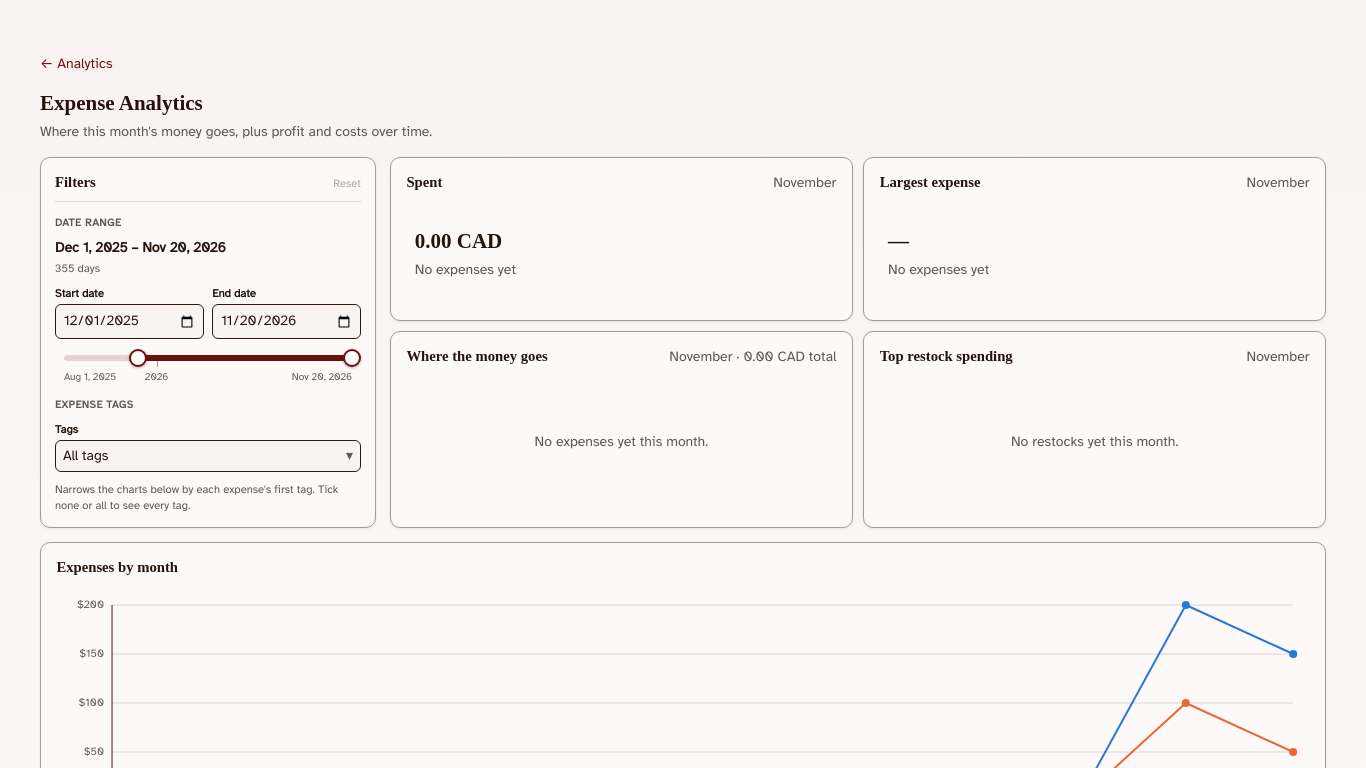
Test case: ExpenseAnalyticsPage charts › tag filter › narrows the charts to the ticked first tags, and Reset unticks them
Click the button named "Tags All tags" at (86, 456), box [55,440,361,472]
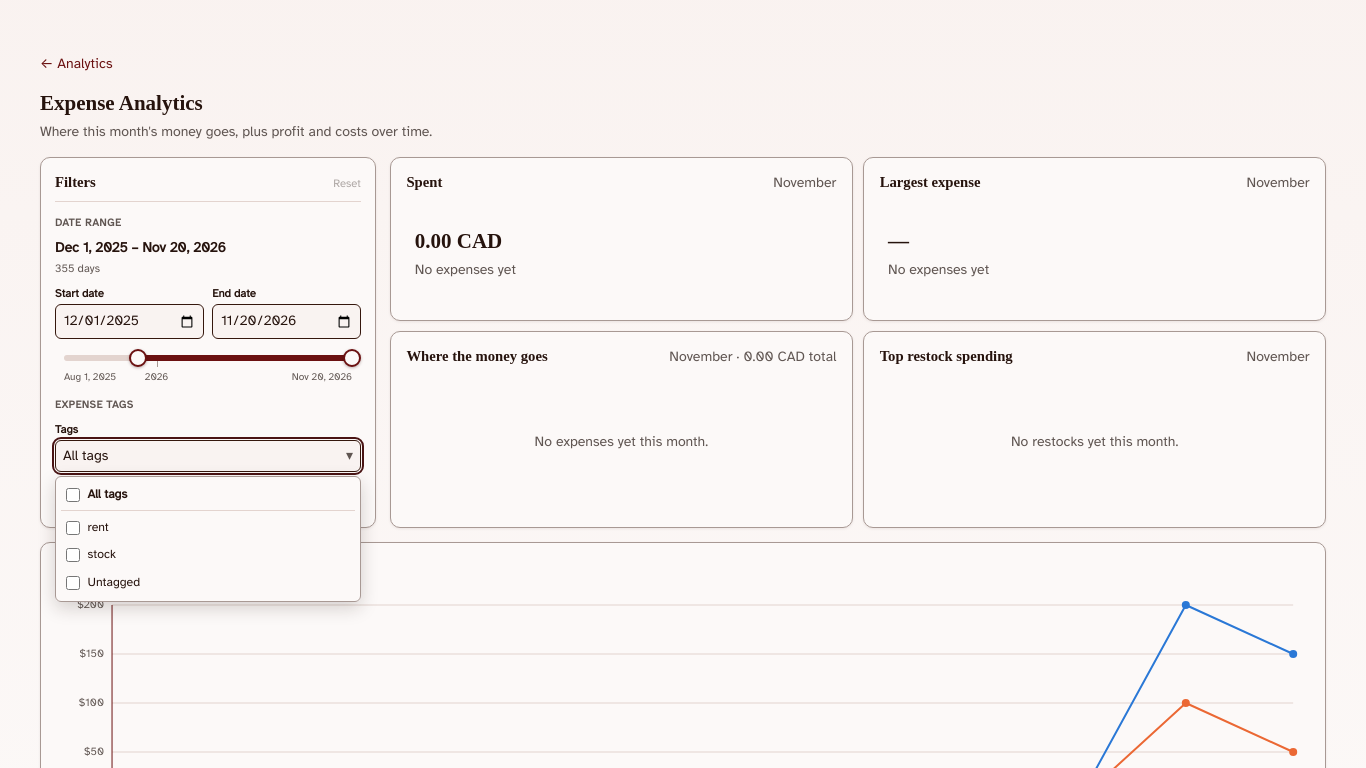
Click the checkbox labelled "stock" at (74, 555), box [66,548,80,562]
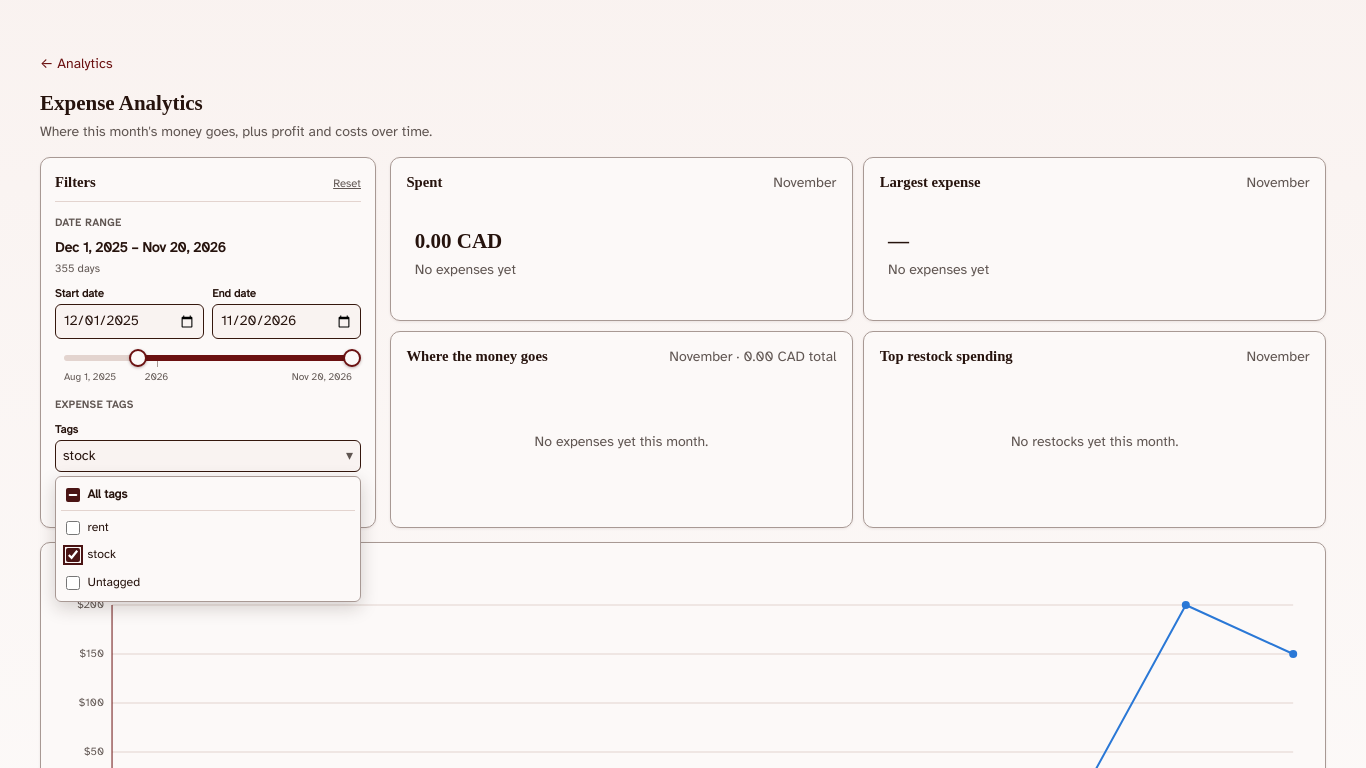
Click the checkbox labelled "rent" at (74, 528), box [66,520,80,534]
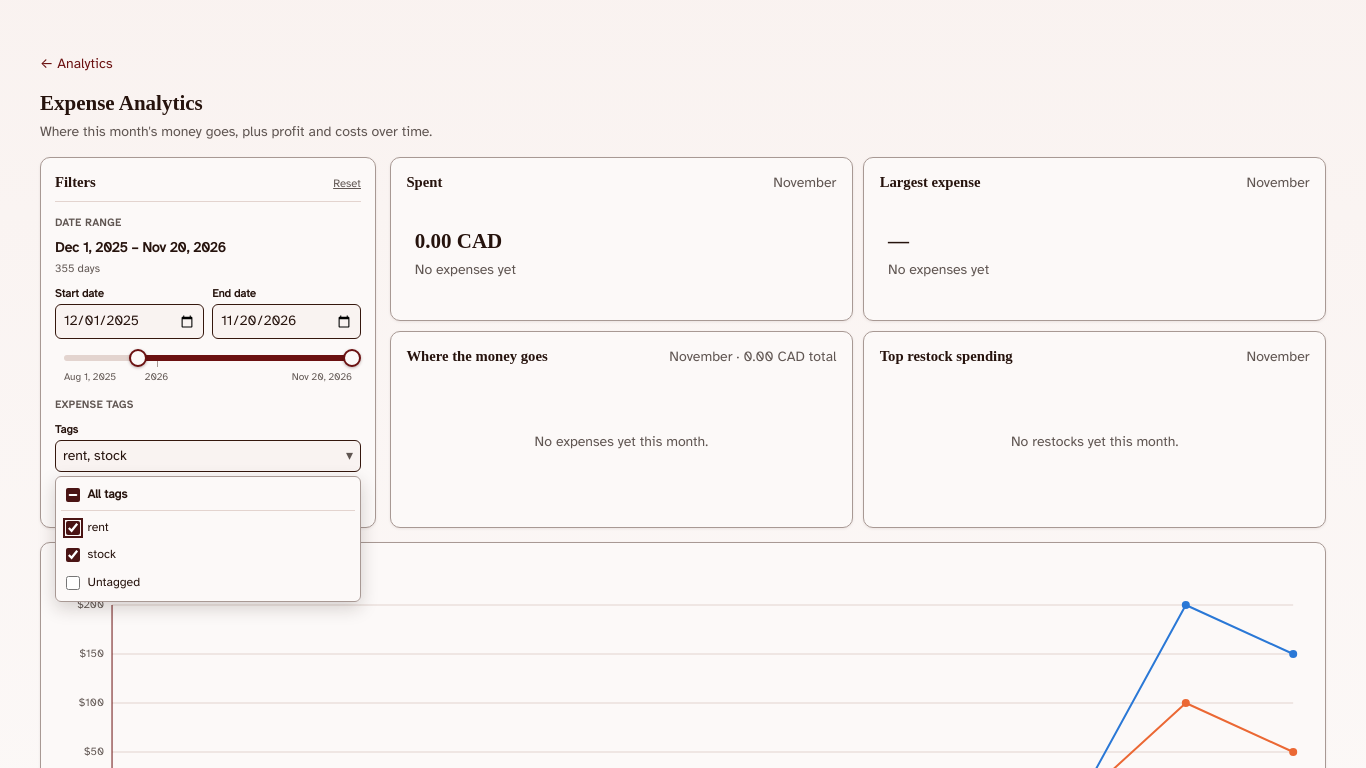
Expected: the heading "Profit by month" is not shown
Click the button "Reset" at (347, 183), box [333,174,361,191]
(page scrolled)
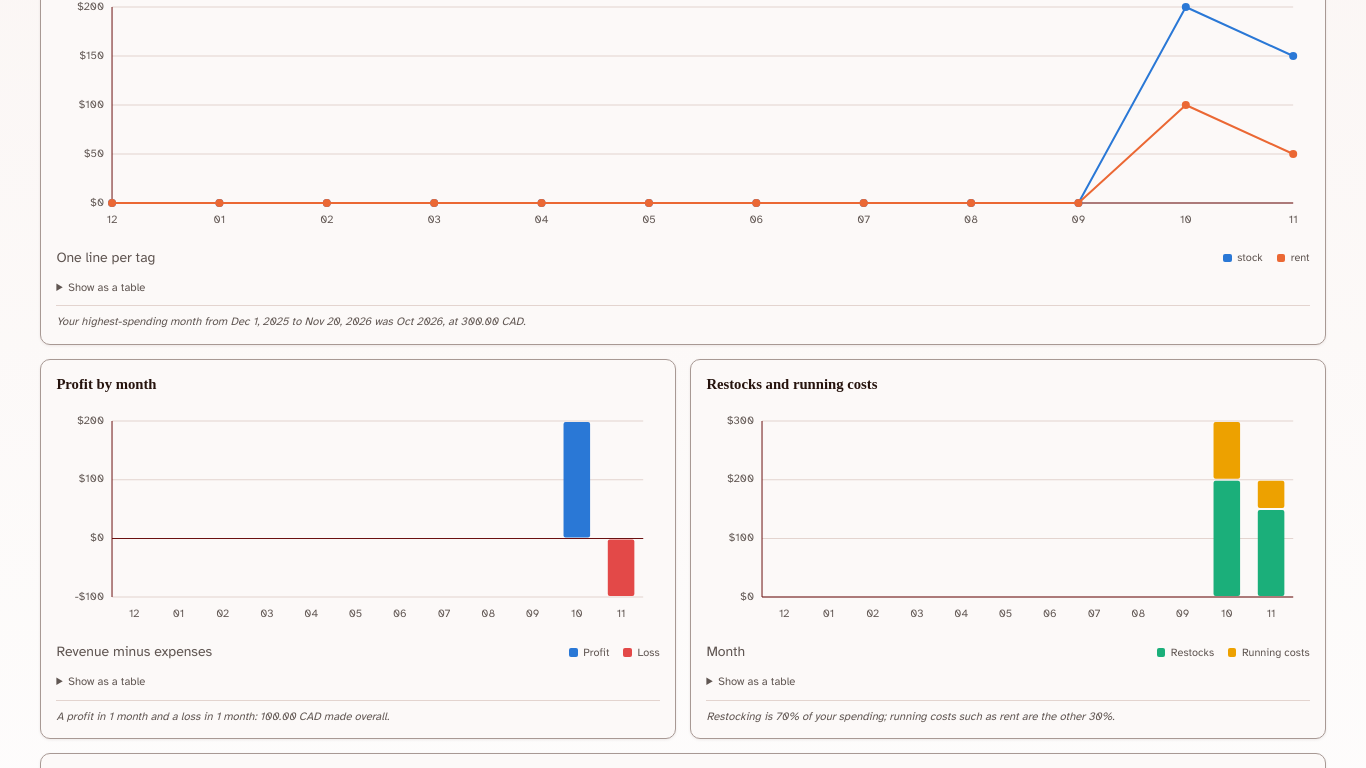
Result: the heading "Profit by month" is shown at [56,374,156,395]
